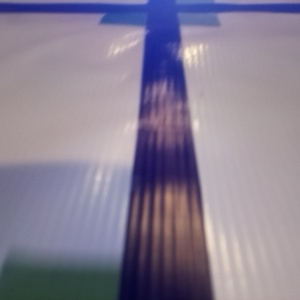top_right: (211, 47, 300, 83)
